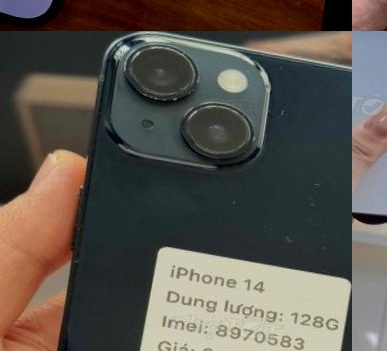scratch: (173, 97, 267, 198), (108, 31, 219, 110), (268, 235, 338, 258), (298, 174, 330, 221), (277, 101, 295, 129), (346, 189, 352, 209)
